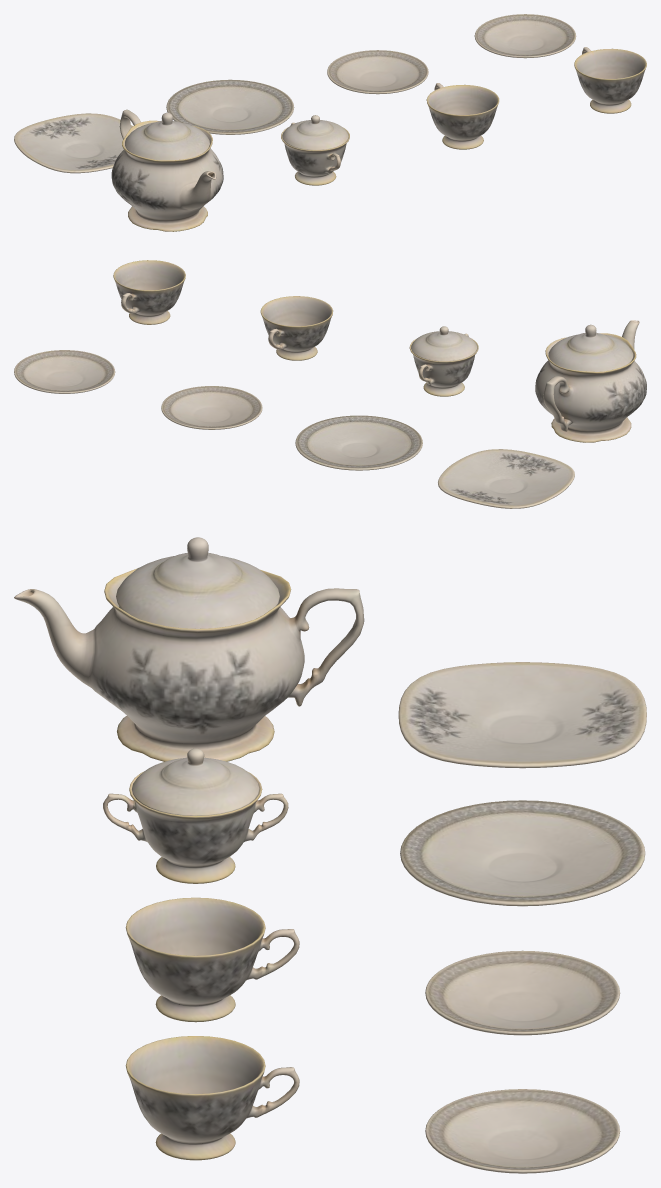
Rendered from tea_set_01.glb.
3 views of the same model, one above another, from view 1: azimuth 30°, elevation 25°; view 2: azimuth 150°, elevation 25°; view 3: azimuth 270°, elevation 25° (orthographic). The views are drawn at different scales.
Bounding box in the file's own units: 0.9185 × 0.165 × 0.4839.
Materials: 1 (1 with a texture image).
